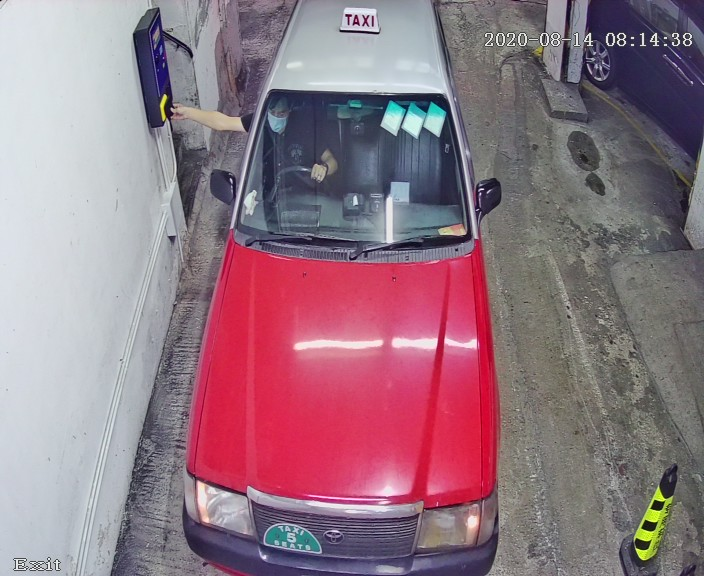taxi: (171, 9, 516, 576)
taxi_mark: (256, 516, 329, 566)
